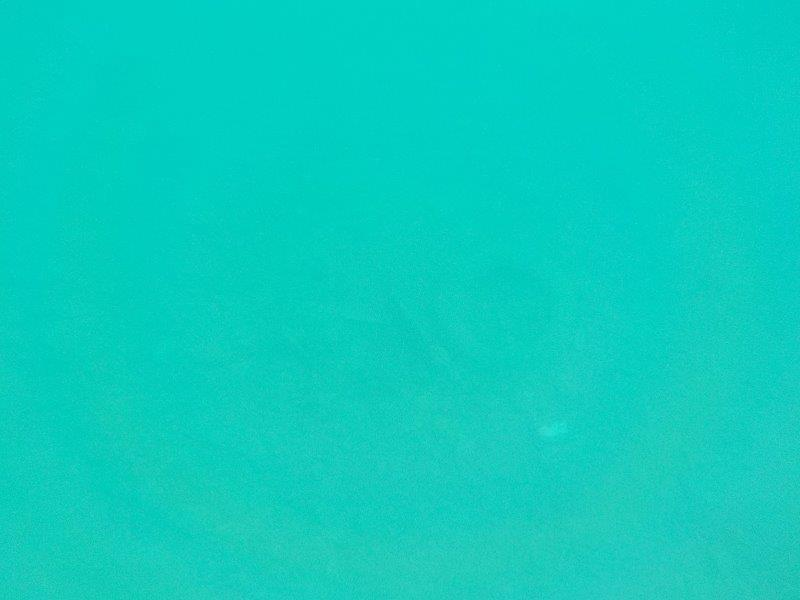tire: (430, 242, 580, 370)
